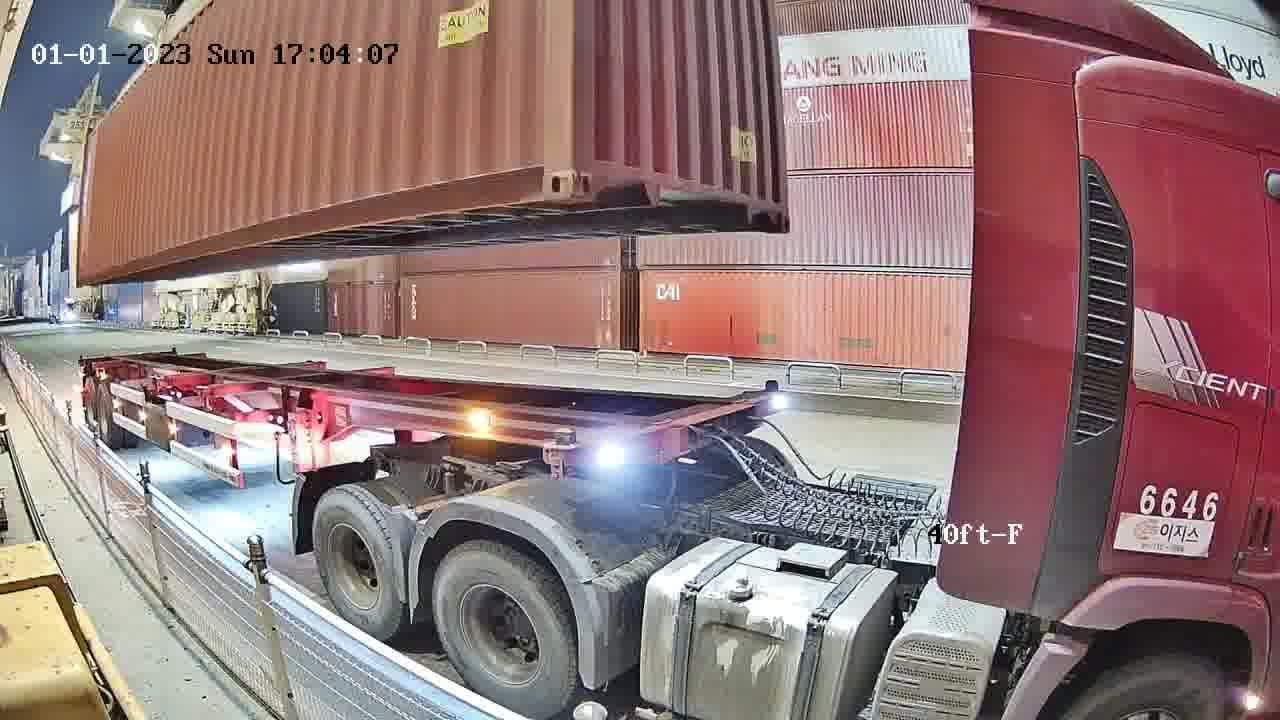Chassis: (544, 389, 788, 479)
Cone: (548, 426, 571, 478), (759, 379, 777, 413)
Hole_L: (571, 142, 618, 201)
Hole_R: (517, 140, 573, 201), (749, 178, 791, 231)
Tire: (431, 543, 574, 718), (314, 492, 399, 636)
